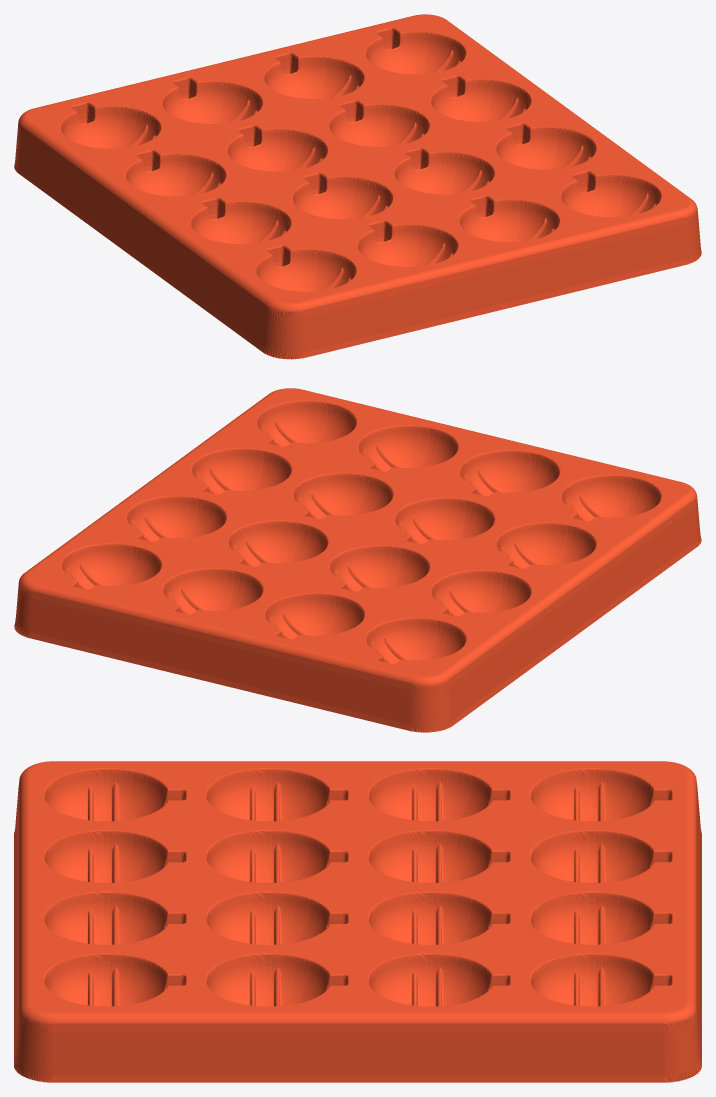
The model's file is mold.glb.
The picture shows the model from 3 angles, top to bottom: view 1: azimuth 30°, elevation 25°; view 2: azimuth 150°, elevation 25°; view 3: azimuth 270°, elevation 25°; orthographic projection. The views are drawn at different scales.
Visible parts, largest first — view 1: geometry_0; view 2: geometry_0; view 3: geometry_0.
Boxes of the visible parts, <box> form: geometry_0: <box>14,14,701,359</box>; geometry_0: <box>14,388,701,732</box>; geometry_0: <box>14,761,701,1082</box>.
Bounding box in the file's own units: 0.1423 × 0.0159 × 0.1569.
